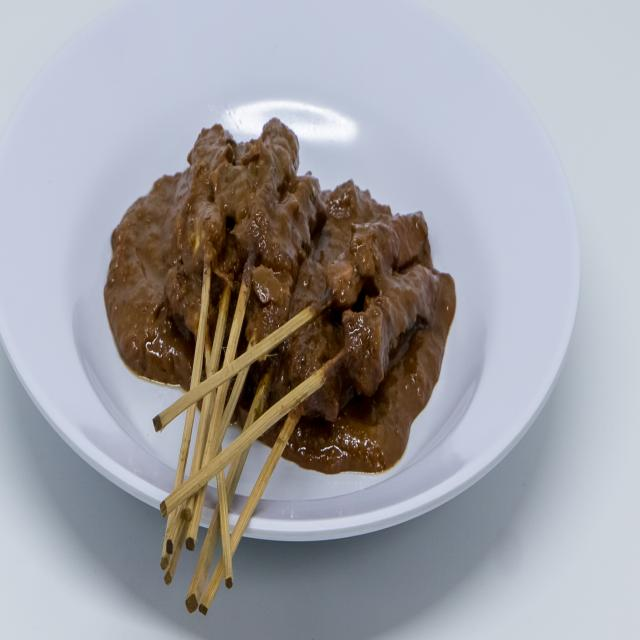Sate-Ayam: (112, 82, 448, 474)
